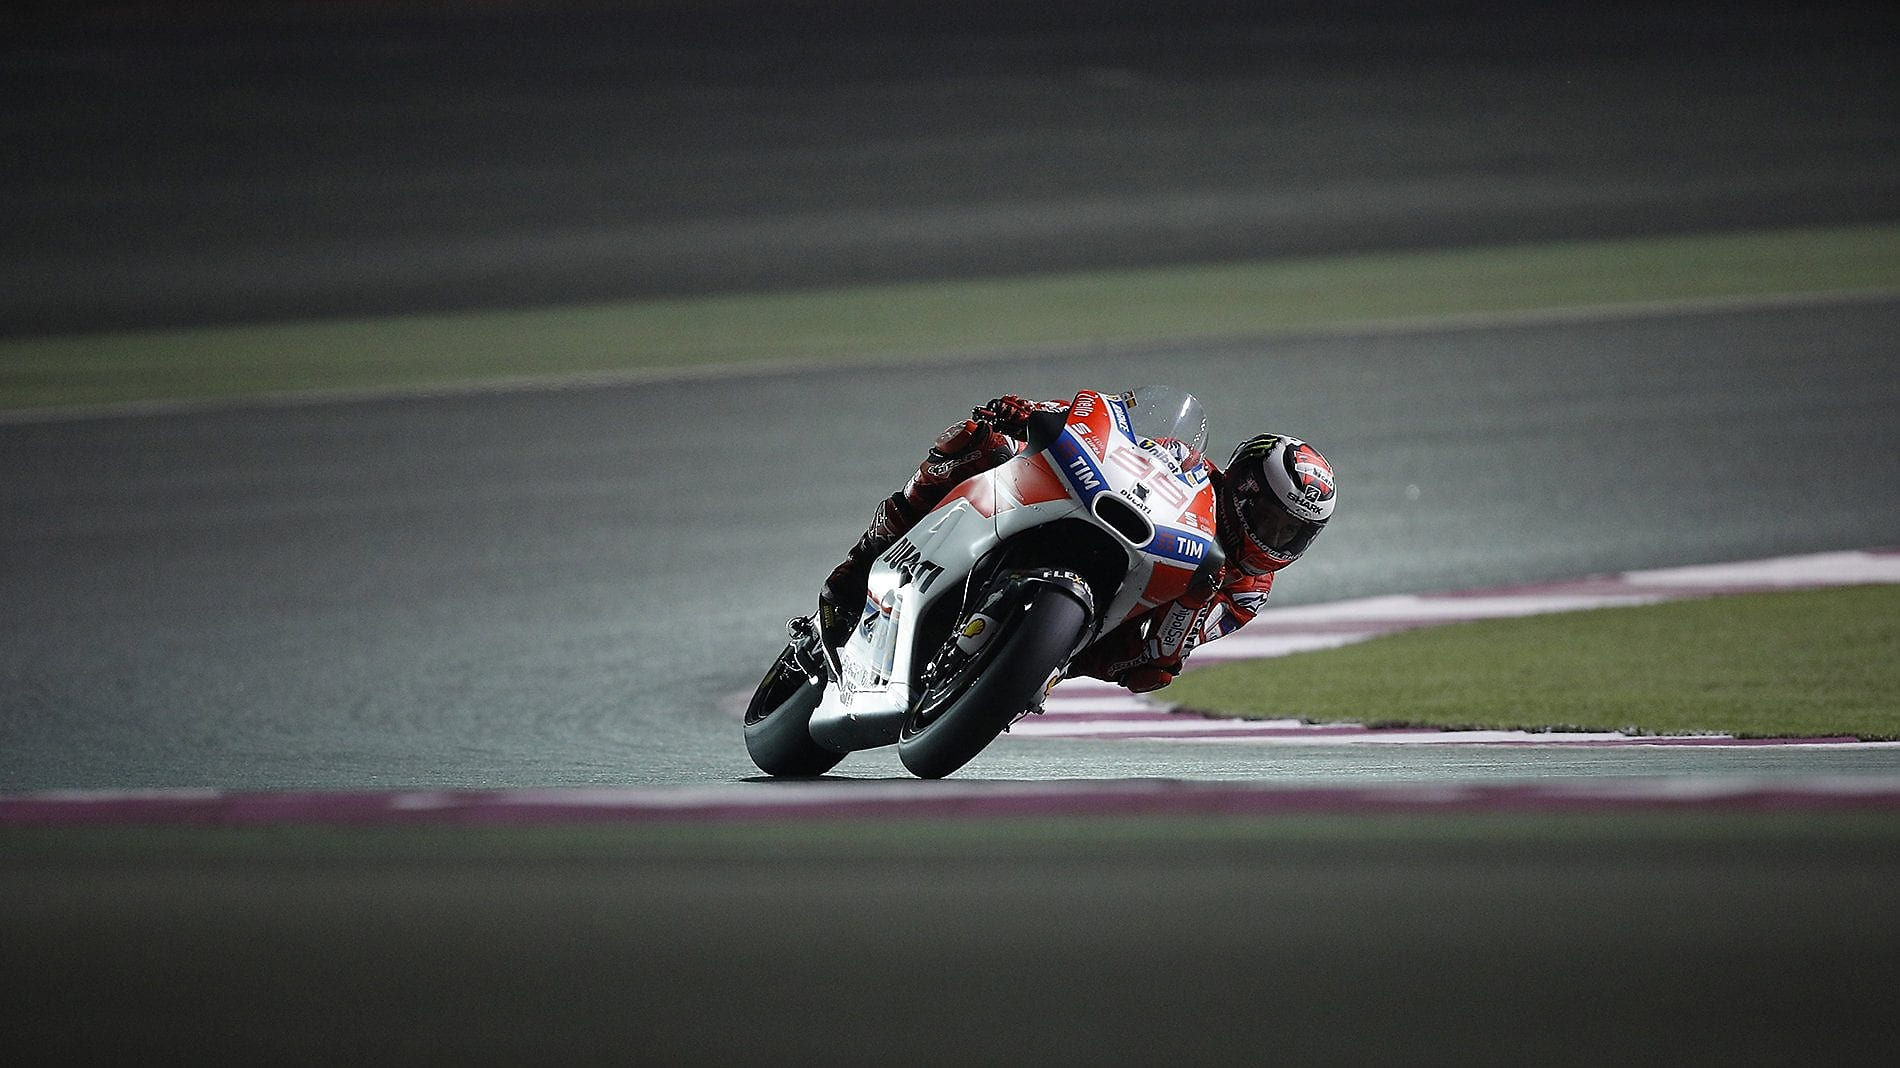helmet: (1211, 418, 1345, 589)
